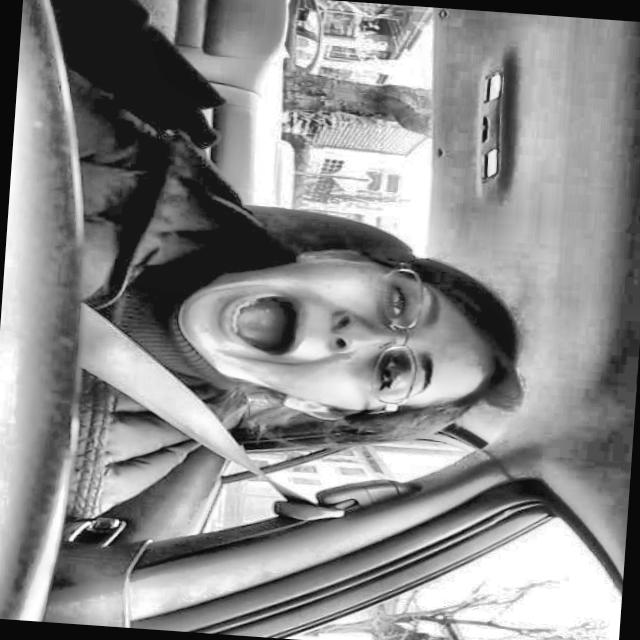open_eyes: (371, 275, 416, 327), (368, 349, 406, 402)
open_mouth: (202, 285, 315, 367)
